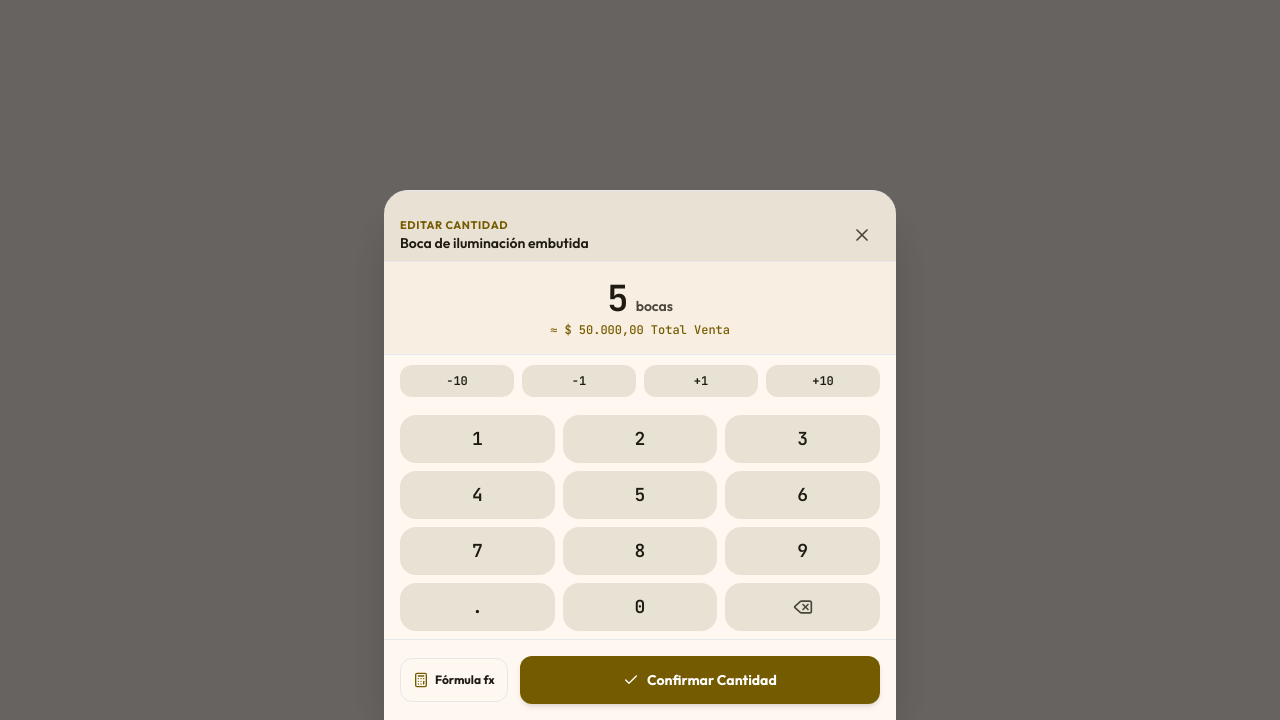
Scenario: MobileQuantitySheet › los steppers rápidos (+1, +10, -1, -10) modifican el valor
What coordinates should you click on to do the following:
click the button "+10"
I would click on:
 (823, 381)
Its box is [766,365,880,397].
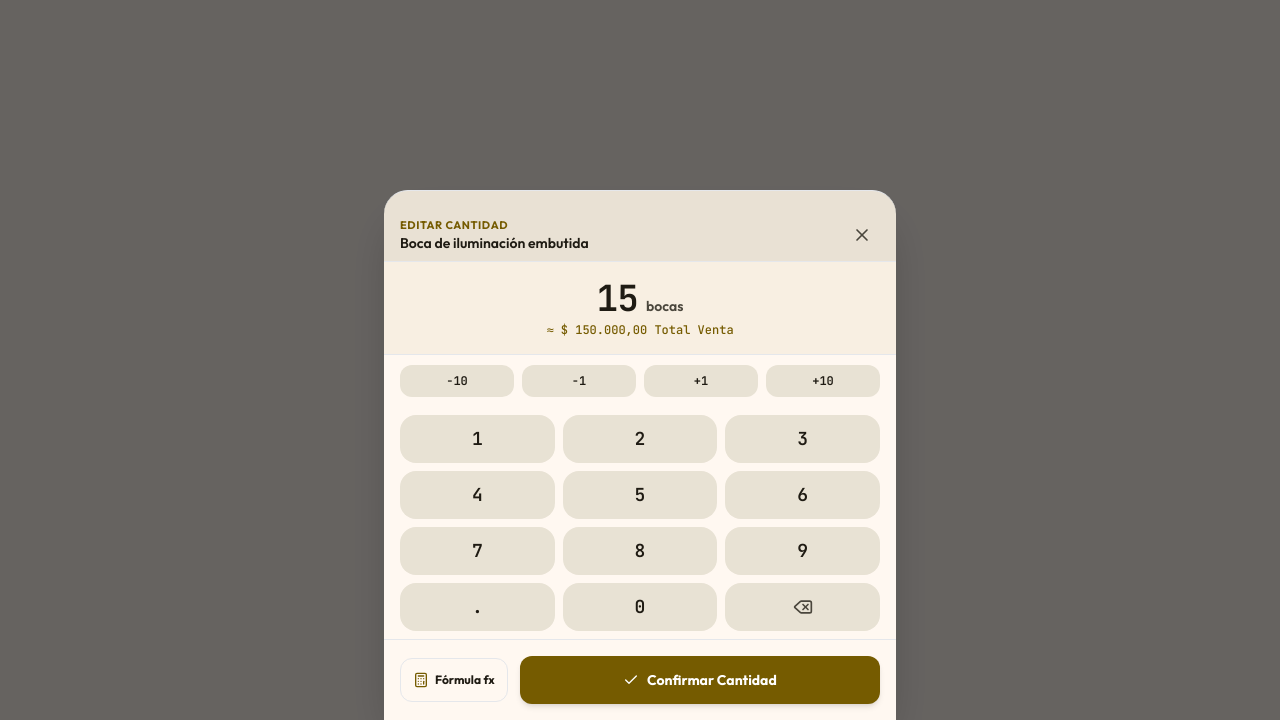
Expected: the text "15" is shown, [597,278,638,318]
What coordinates should you click on to do the following:
click the button "-1"
I would click on:
 (579, 381)
Its box is [522,365,636,397].
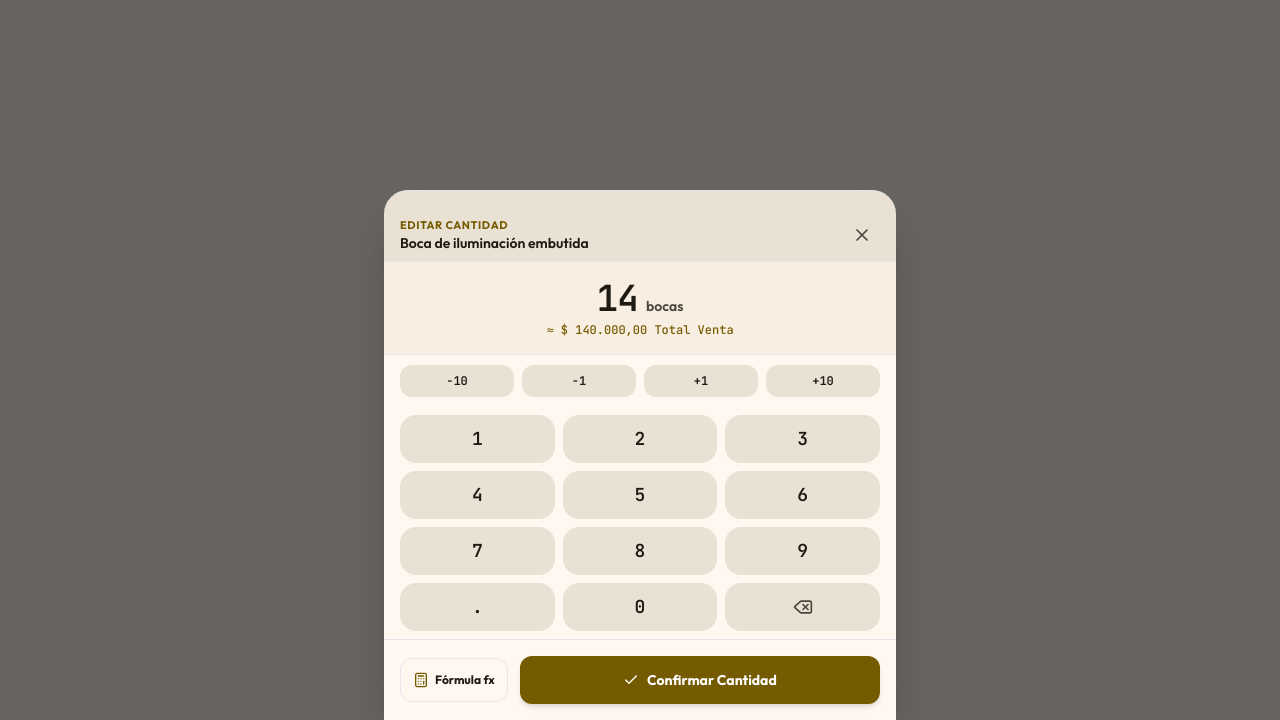
Expected: the text "14" is shown, [597,278,638,318]
